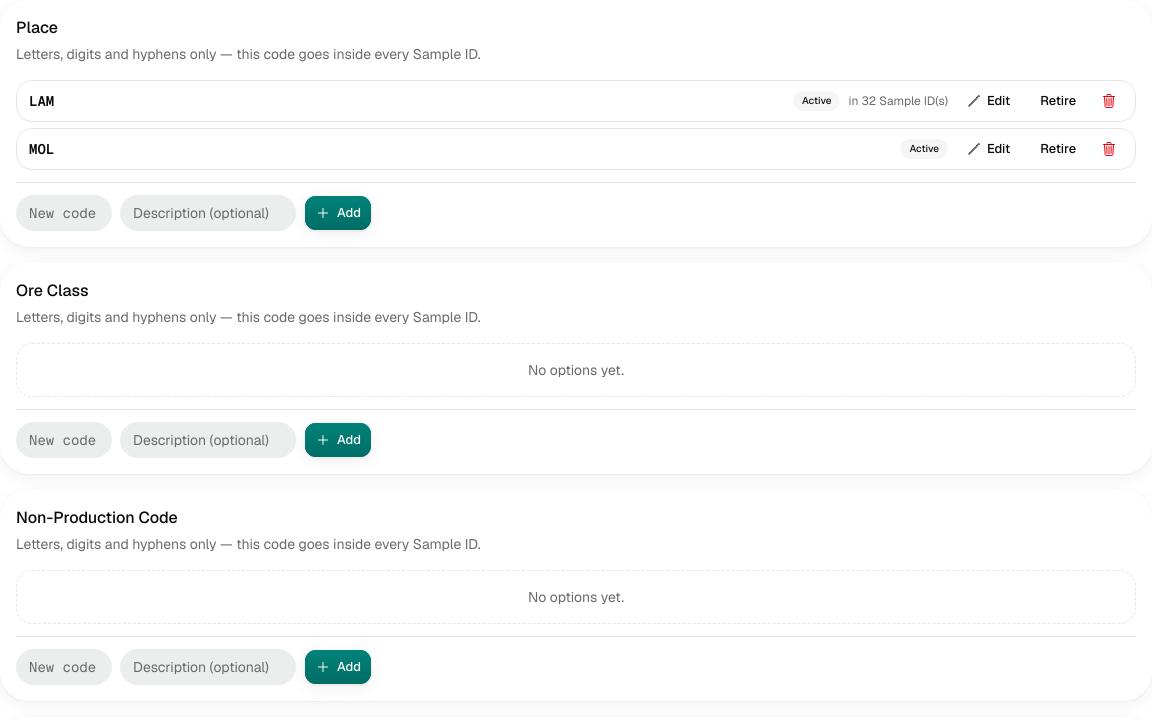
Test: deleting a code › will not go ahead when the rewritten Sample IDs clash
Click the button named "Delete LAM" at (1109, 101), box [1095,87,1123,115]
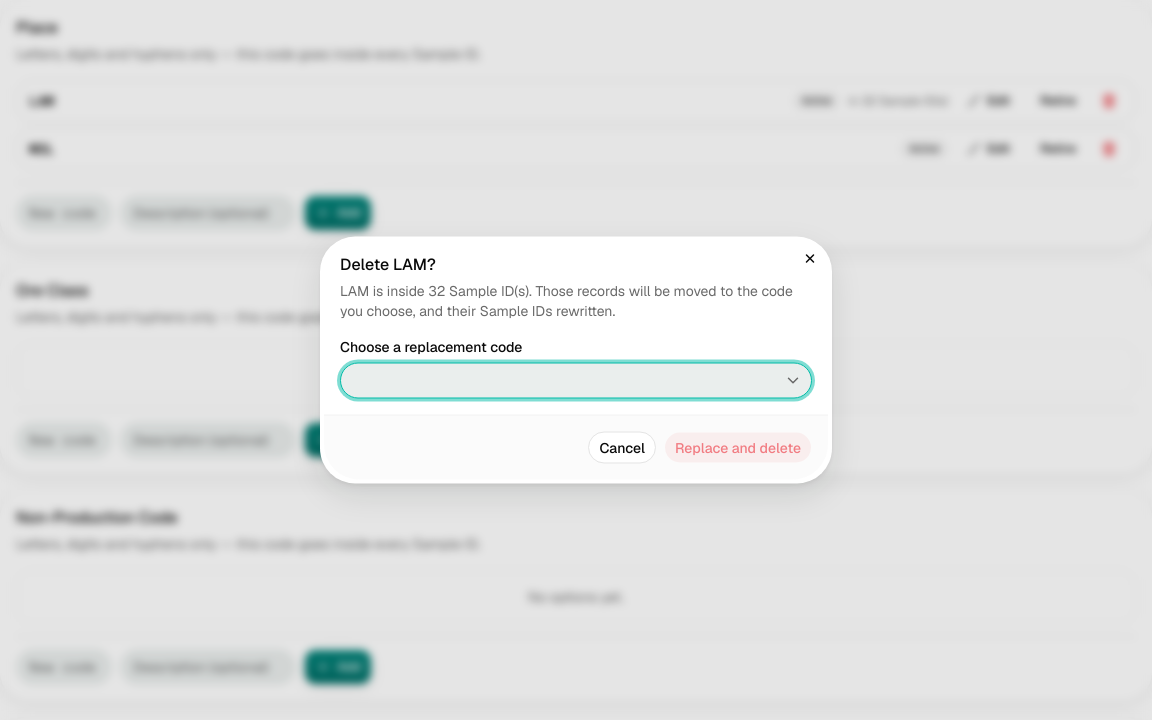
Click the dropdown named "Choose a replacement code" at (793, 380), box [340,362,812,398]
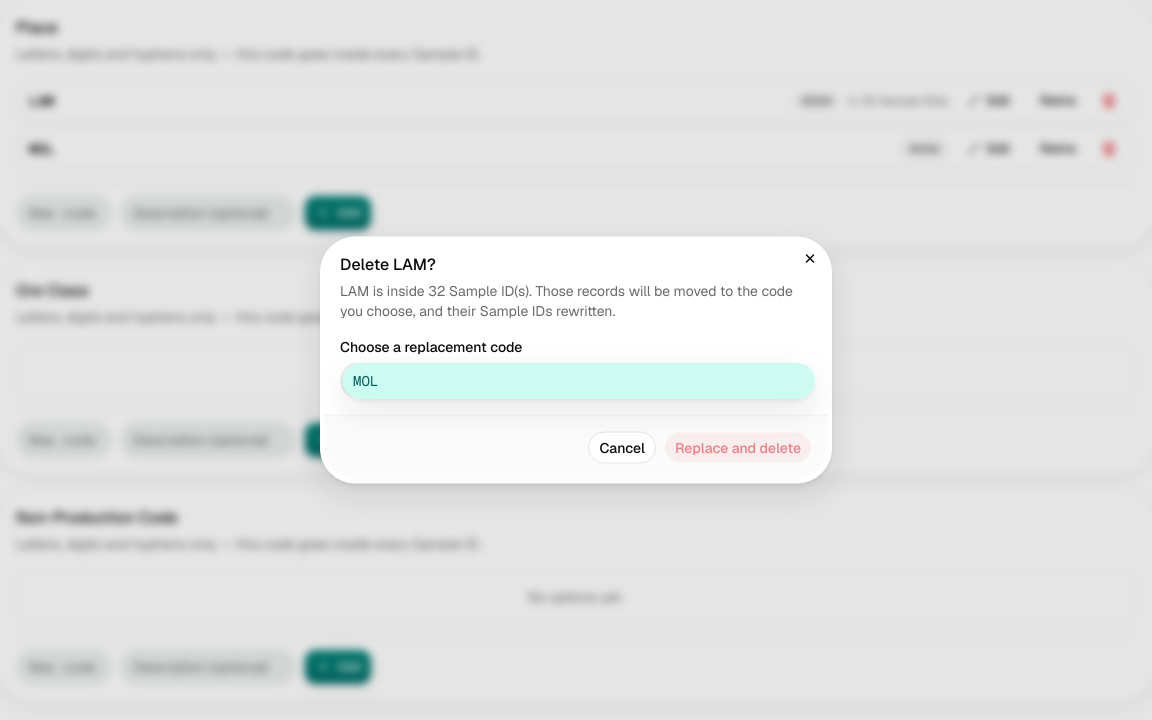
Click the option "MOL" at (366, 380), box [343,362,815,398]
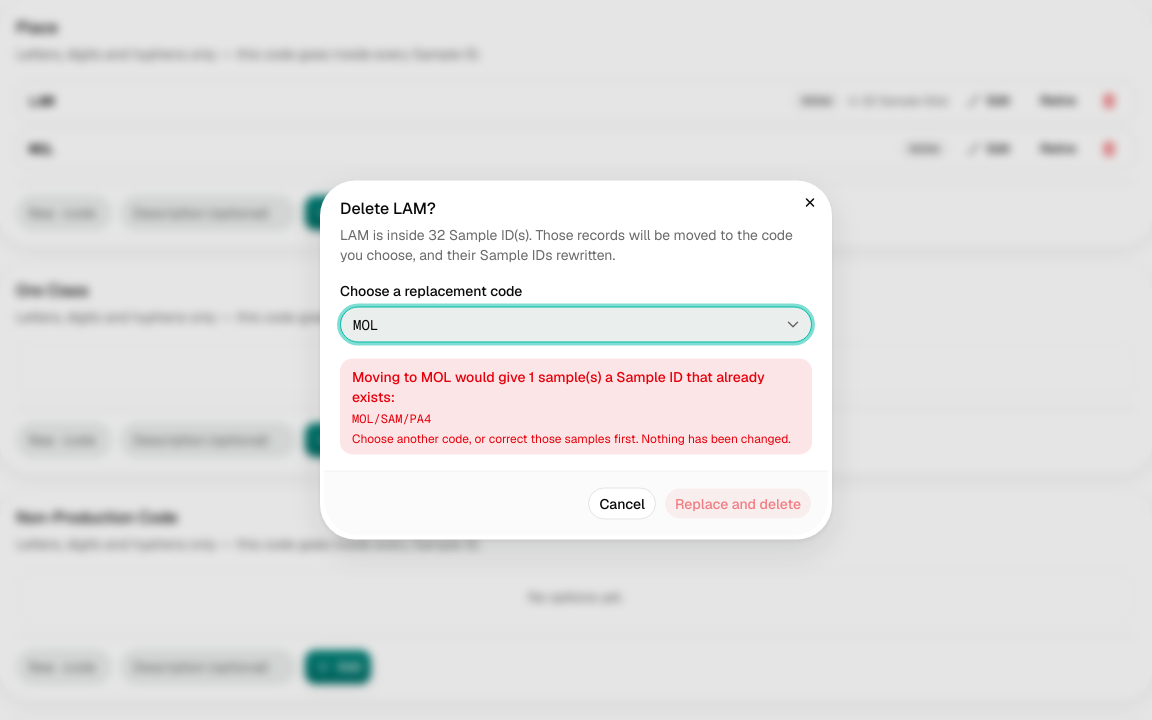
Expected: the button "Replace and delete" is disabled, [664,488,812,520]
Expected: the list item "MOL/SAM/PA4" is shown, [352,410,431,426]
